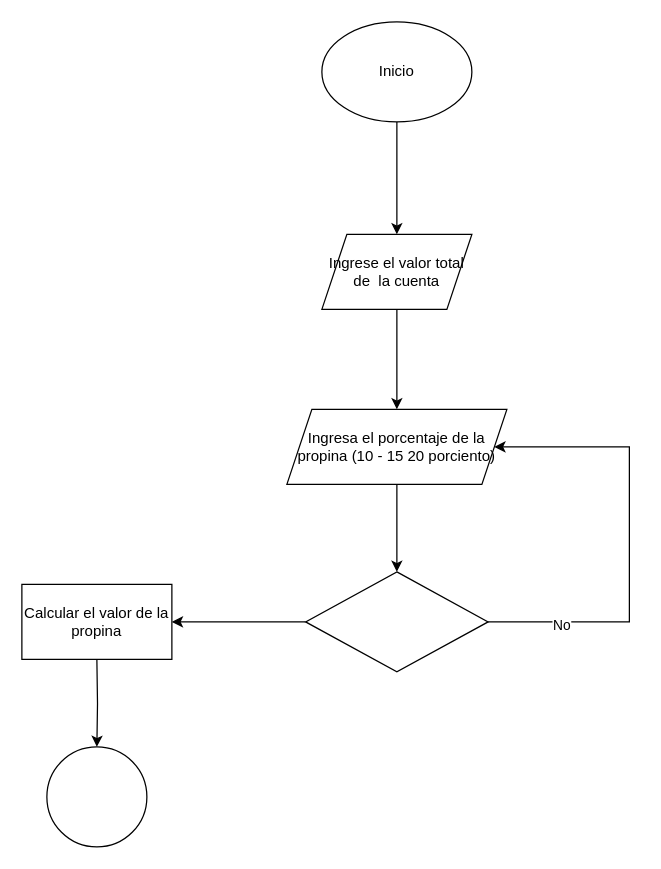
The diagram is 661 pixels wide and 869 high, and some of its shapes have lost their labels. Here are the shapes that lost their labels. From the top down, the centre of each, then its label:
the point at 396,621: Es correcto el porcentaje de la propina?
the point at 96,796: Fin
